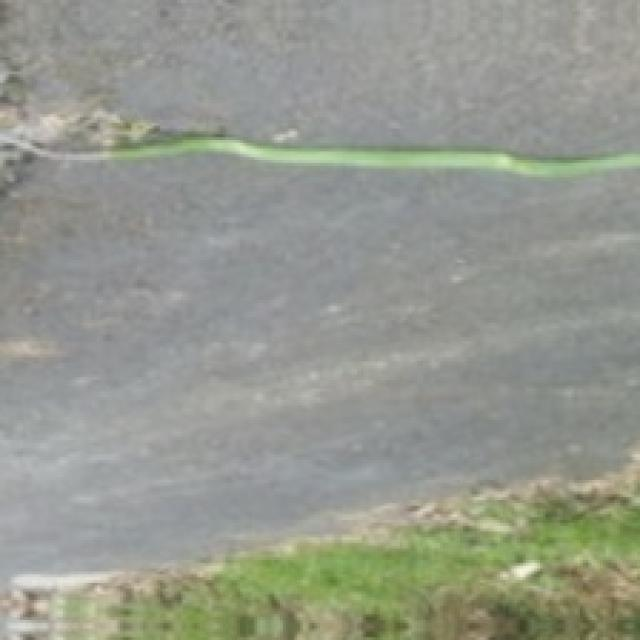red-tailed green ratsnake: (0, 123, 637, 186), (43, 111, 151, 137)
